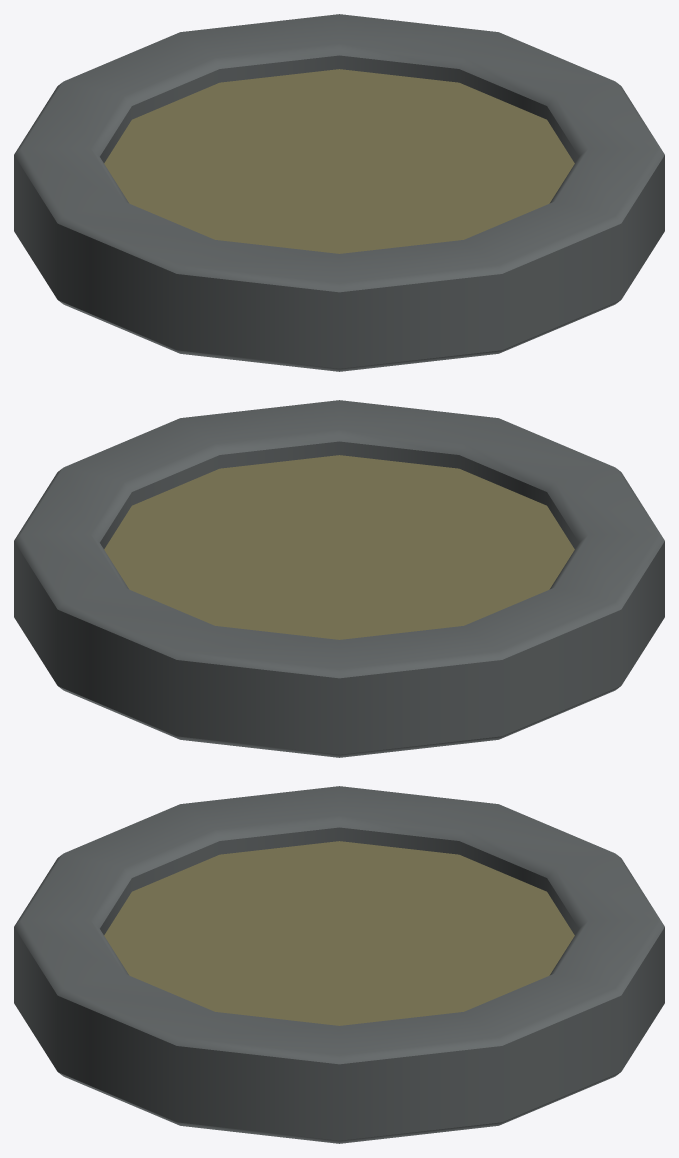
Rendered from coin.fbx.
3 views of the same model, one above another, from view 1: azimuth 30°, elevation 25°; view 2: azimuth 150°, elevation 25°; view 3: azimuth 270°, elevation 25° (orthographic).
Parts seen in each view (by area): view 1: pCylinder1; view 2: pCylinder1; view 3: pCylinder1.
Boxes of the visible parts, bbox=[...] form: pCylinder1: bbox=[14, 14, 664, 371]; pCylinder1: bbox=[14, 400, 664, 757]; pCylinder1: bbox=[14, 786, 664, 1143].
Size of the model in its own units: 40 by 6 by 40.
